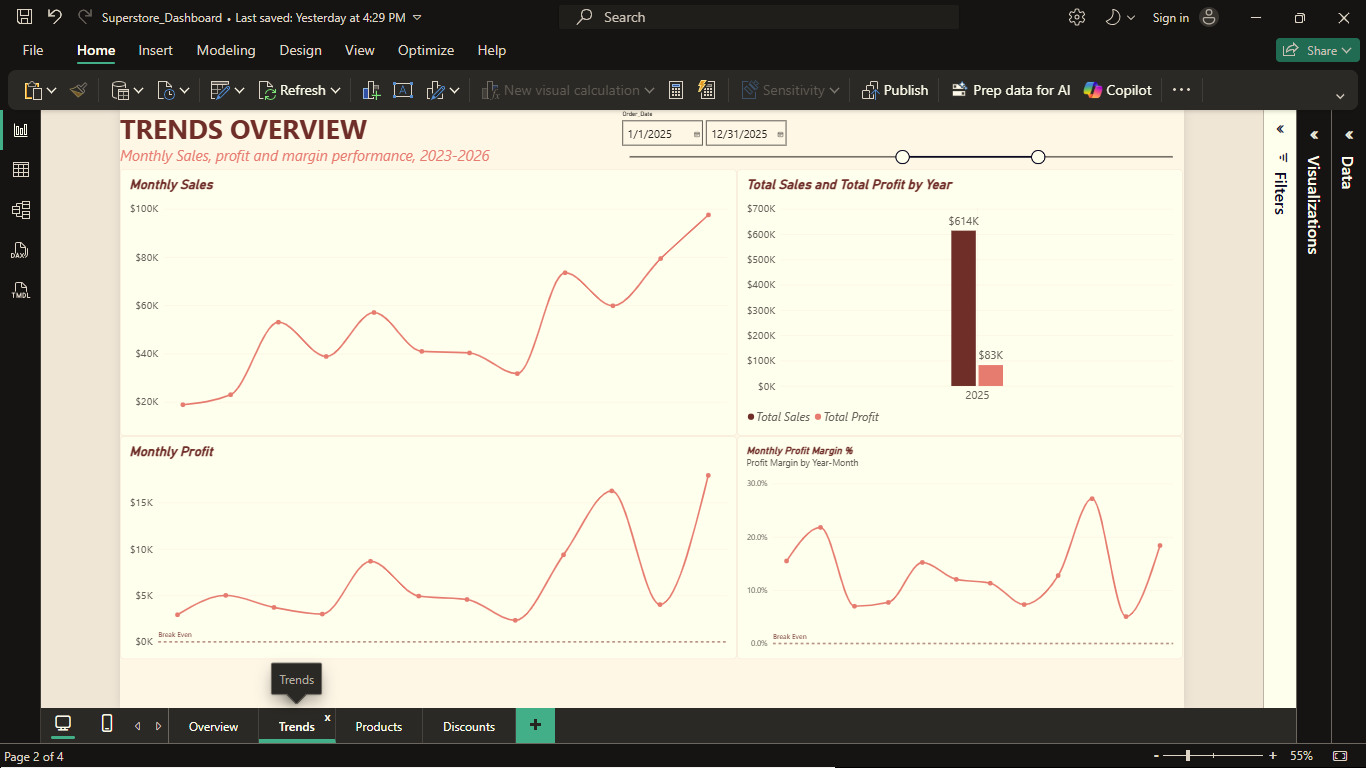

What the dashboard file says about the page in this screenshot:
{"tool":"powerbi","page":{"name":"Trends","canvas":[1920,1080],"ordinal":1},"visuals":[{"type":"lineChart","title":"Monthly Sales","fields":{"Category":["superstore orders.Year-Month"],"Y":["superstore orders.Total Sales"]},"box":[0,106.6,1114.3,482.2],"z":0},{"type":"lineChart","title":"Monthly Profit","fields":{"Category":["superstore orders.Year-Month"],"Y":["superstore orders.Total Profit"]},"box":[0,588.8,1114.3,402.7],"z":1000},{"type":"lineChart","title":"Monthly Profit Margin %","fields":{"Category":["superstore orders.Year-Month"],"Y":["superstore orders.Profit Margin"]},"box":[1114.3,588.8,805.5,402.7],"z":2000},{"type":"clusteredColumnChart","fields":{"Category":["superstore orders.Order_Date.Variation.Date Hierarchy.Year"],"Y":["superstore orders.Total Sales","superstore orders.Total Profit"]},"box":[1114.3,106.6,805.5,482.2],"z":3000},{"type":"slicer","title":"Date","fields":{"Values":["superstore orders.Order_Date"]},"box":[900.1,0,1020.4,106.6],"z":4000},{"type":"textbox","box":[0,0,826.7,106.7],"z":5000}]}

Visuals, with their boxes on the page's 1920x1080 design canvas (x1, y1, x2, y2). These are canvas units, not pixel positions in the 1366x768 screenshot, which may show the page scaled, cropped or inside an application window:
"Monthly Sales" lineChart: (left=0, top=107, right=1114, bottom=589)
"Monthly Profit" lineChart: (left=0, top=589, right=1114, bottom=992)
"Monthly Profit Margin %" lineChart: (left=1114, top=589, right=1920, bottom=992)
clusteredColumnChart - superstore orders.Order_Date.Variation.Date Hierarchy.Year x superstore orders.Total Sales: (left=1114, top=107, right=1920, bottom=589)
"Date" slicer: (left=900, top=0, right=1920, bottom=107)
textbox: (left=0, top=0, right=827, bottom=107)
